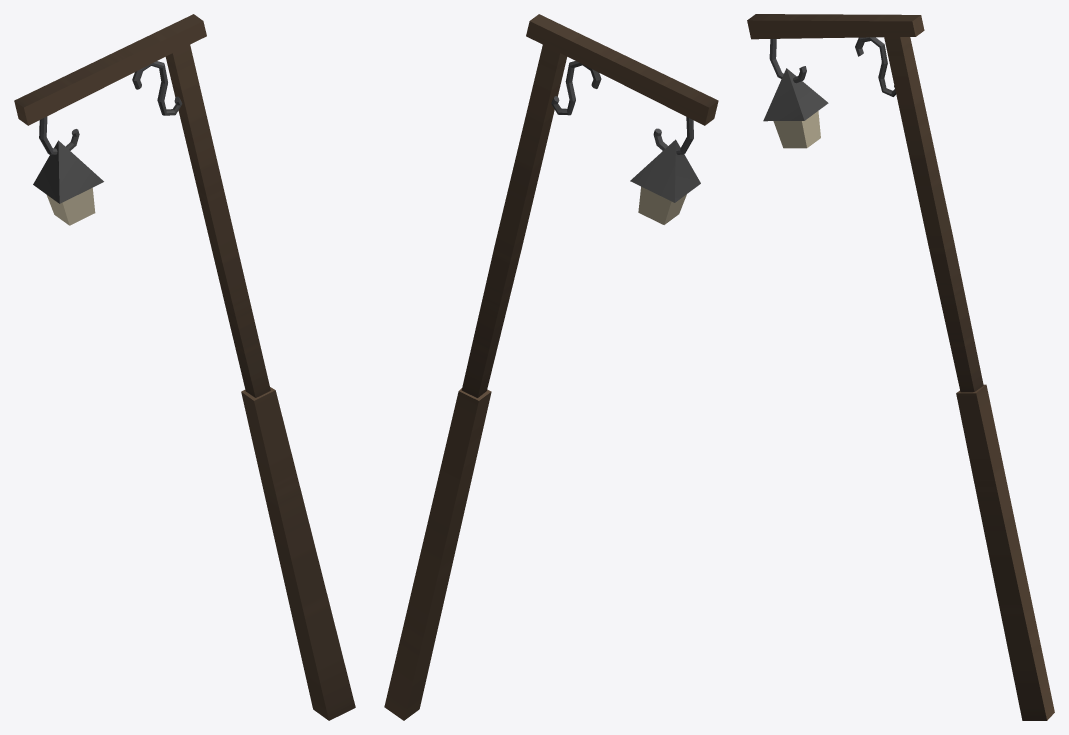
Rendered from ea_exterior_lamp_wooden_01a_pre__8__lev1.glb.
The picture shows the model from 3 angles, left to right: view 1: azimuth 30°, elevation 25°; view 2: azimuth 150°, elevation 25°; view 3: azimuth 330°, elevation 25°; orthographic projection. The views are drawn at different scales.
Visible parts, largest first — view 1: ea_exterior_lamp_wooden_01a_pre__8__lev1; view 2: ea_exterior_lamp_wooden_01a_pre__8__lev1; view 3: ea_exterior_lamp_wooden_01a_pre__8__lev1.
Boxes of the visible parts, x1,y1,x2,y2 form: ea_exterior_lamp_wooden_01a_pre__8__lev1: [14, 14, 355, 720]; ea_exterior_lamp_wooden_01a_pre__8__lev1: [384, 14, 718, 720]; ea_exterior_lamp_wooden_01a_pre__8__lev1: [747, 14, 1054, 720].
Size of the model in its own units: 1.94 by 4.1 by 0.2716.
1 material, 1 textured.
